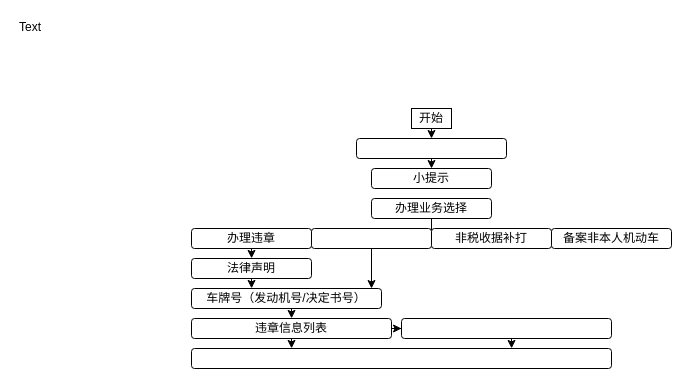
Image size: 689x386. Some labels were removed from this diagram. The centre of each missing label's shape, as x and y in pixels:
单条违章详情: the point at 506,328
微信扫码办理: the point at 371,238
点击交通罚款: the point at 431,148
输入驾驶证号和预留手机号: the point at 401,358
